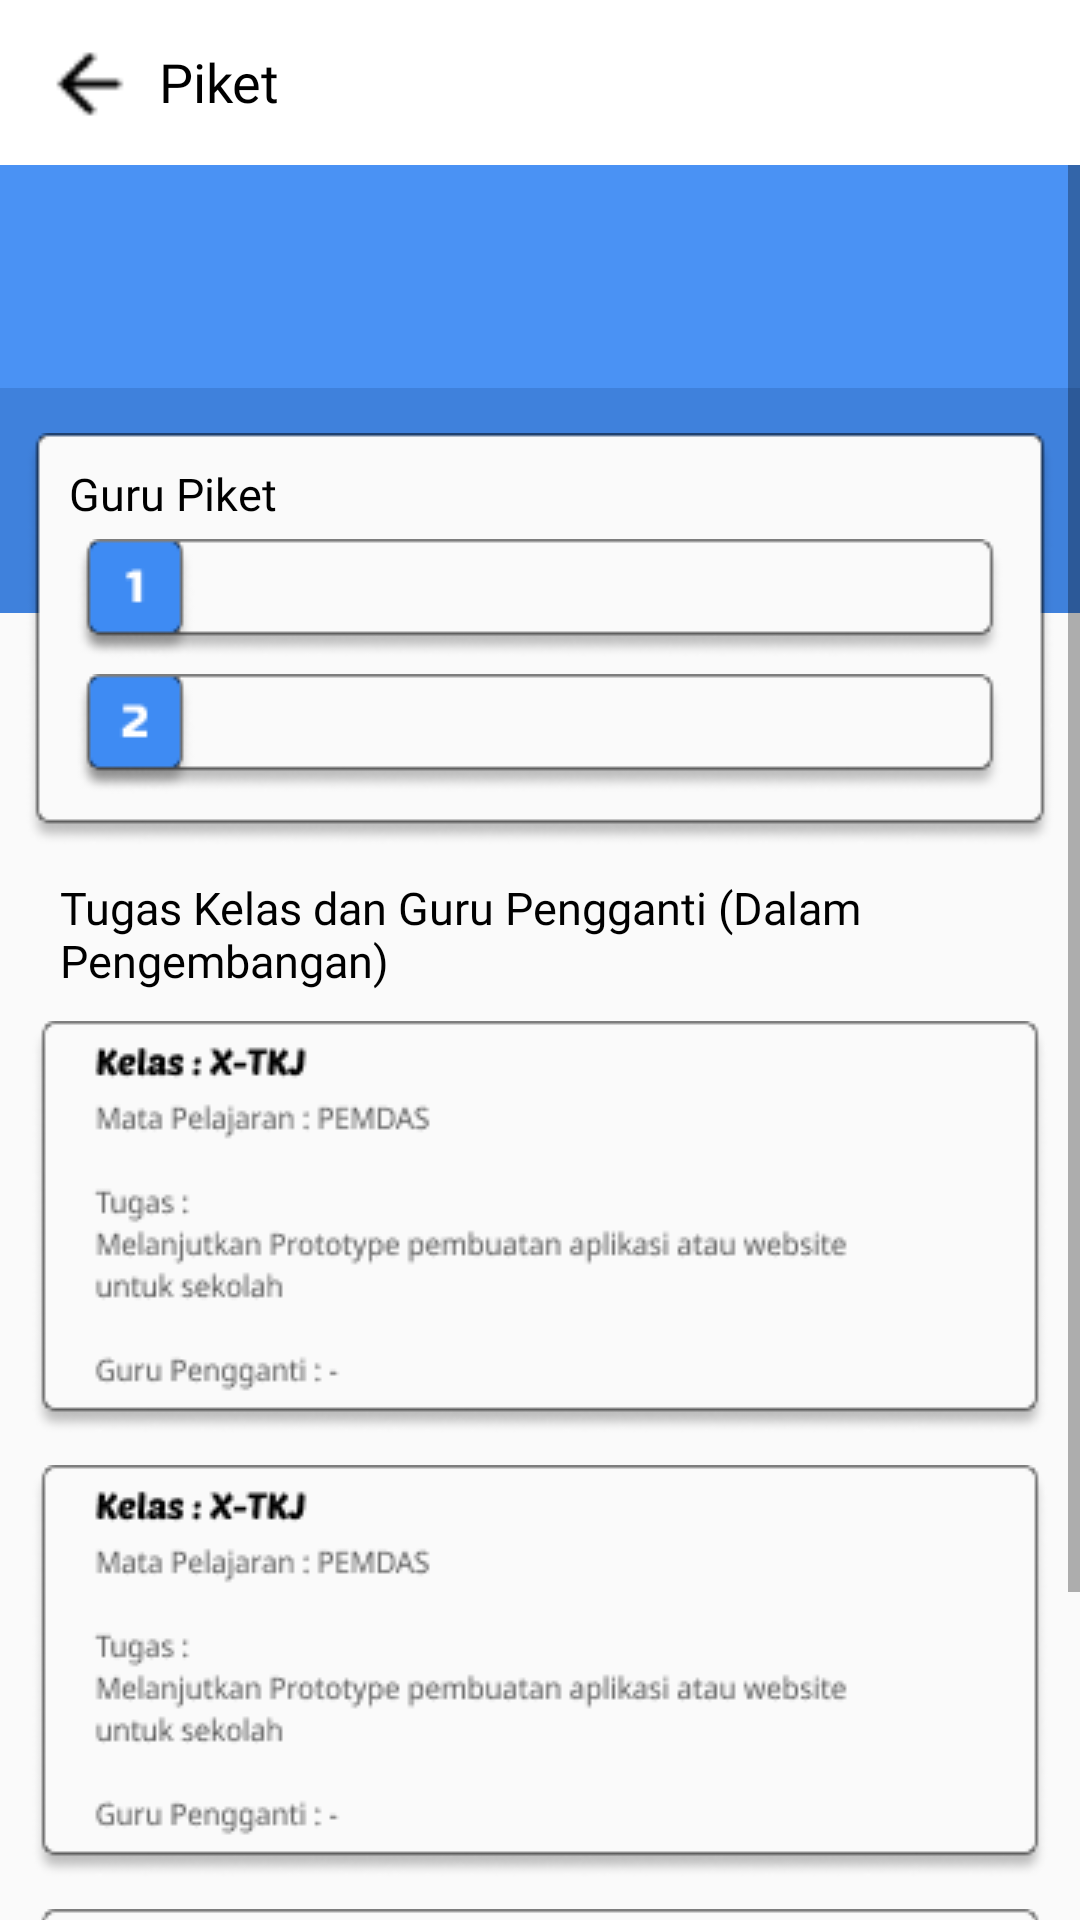

Icon bounding boxes for this 1080 × 1920 phone screenshot, format (x1, y1, x2, y2):
arrow left: (56, 52, 123, 116)
